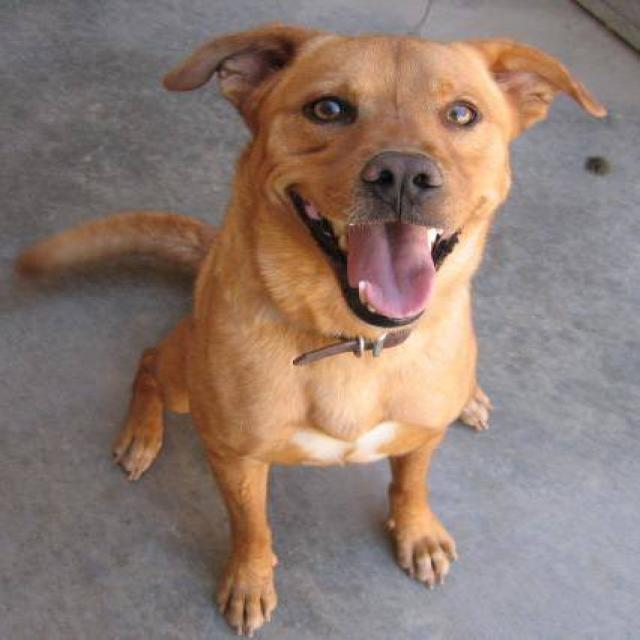Dog: (159, 0, 616, 344)
